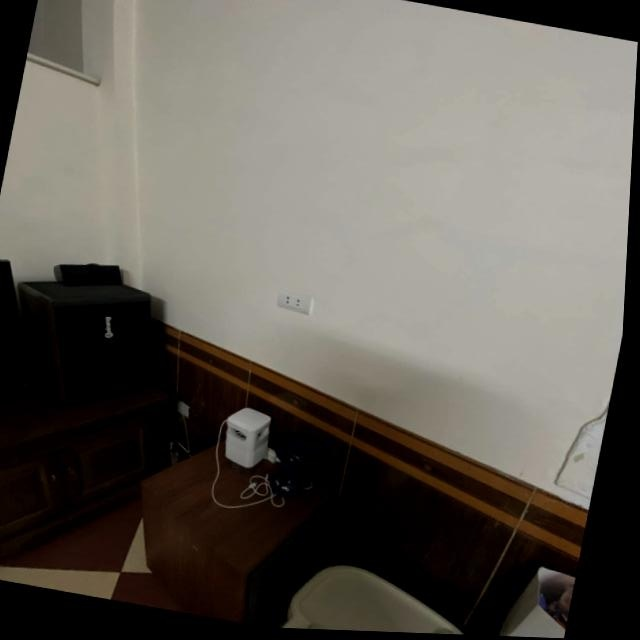outlet: (275, 289, 314, 315)
